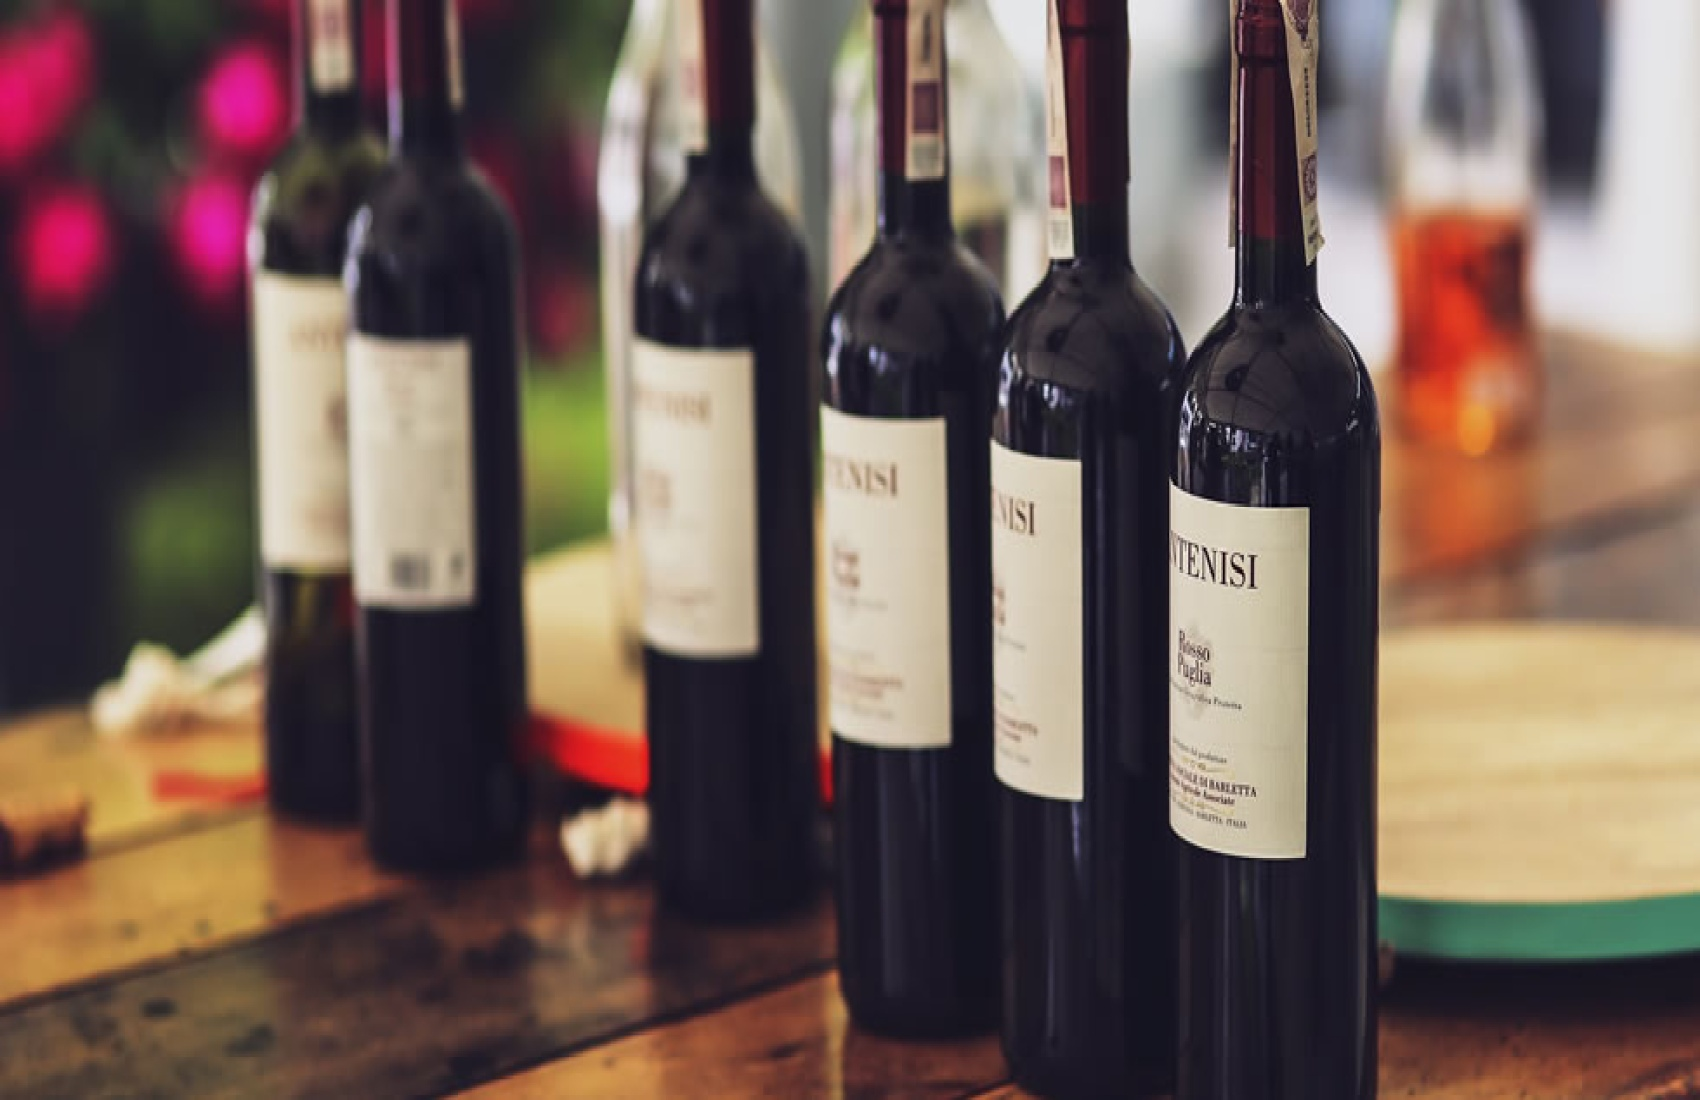wine: (1168, 84, 1378, 1100), (996, 71, 1176, 1086), (818, 17, 997, 1032), (638, 1, 809, 929)
